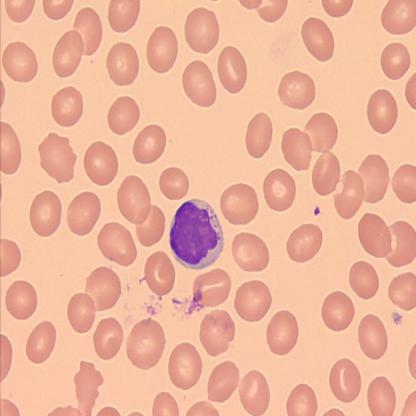Lymphocyte: (168, 196, 224, 270)
